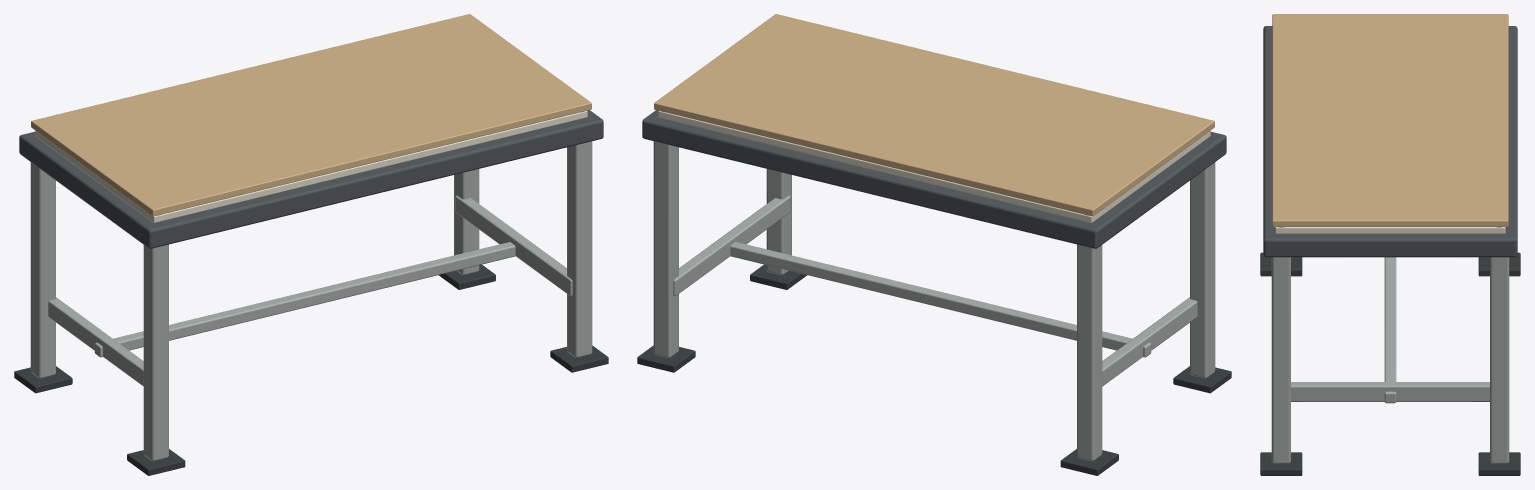
Rendered from coffee-roastery-and-cupping-room-coffee-roastery-and-c-1962bdfa__32182.glb.
3 views of the same model, side by side, from view 1: azimuth 30°, elevation 25°; view 2: azimuth 150°, elevation 25°; view 3: azimuth 270°, elevation 25° (orthographic). The views are drawn at different scales.
Parts seen in each view (by area): view 1: coffee-roastery-and-cupping-room-bean-inspection-table; view 2: coffee-roastery-and-cupping-room-bean-inspection-table; view 3: coffee-roastery-and-cupping-room-bean-inspection-table.
Part boxes in pixels (bbox=[...]): coffee-roastery-and-cupping-room-bean-inspection-table: bbox=[14, 14, 608, 475]; coffee-roastery-and-cupping-room-bean-inspection-table: bbox=[637, 14, 1231, 475]; coffee-roastery-and-cupping-room-bean-inspection-table: bbox=[1260, 14, 1520, 475].
Bounding box in the file's own units: 1.72 × 0.925 × 0.87.
